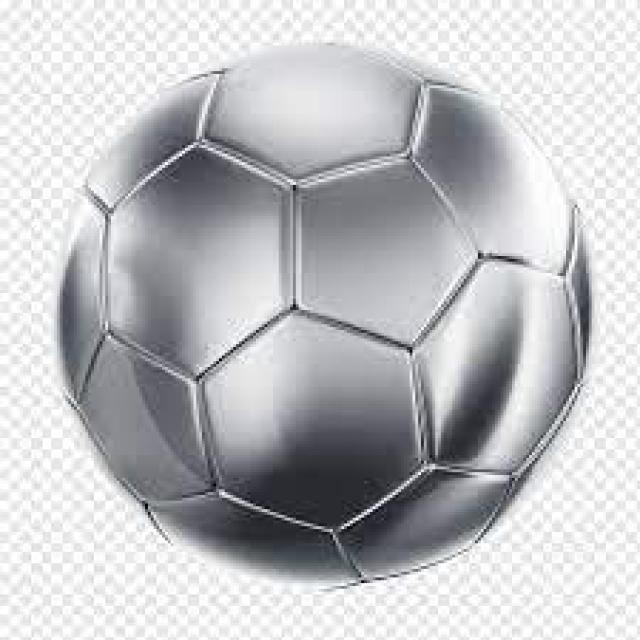Soccer Ball: (57, 40, 603, 589)
